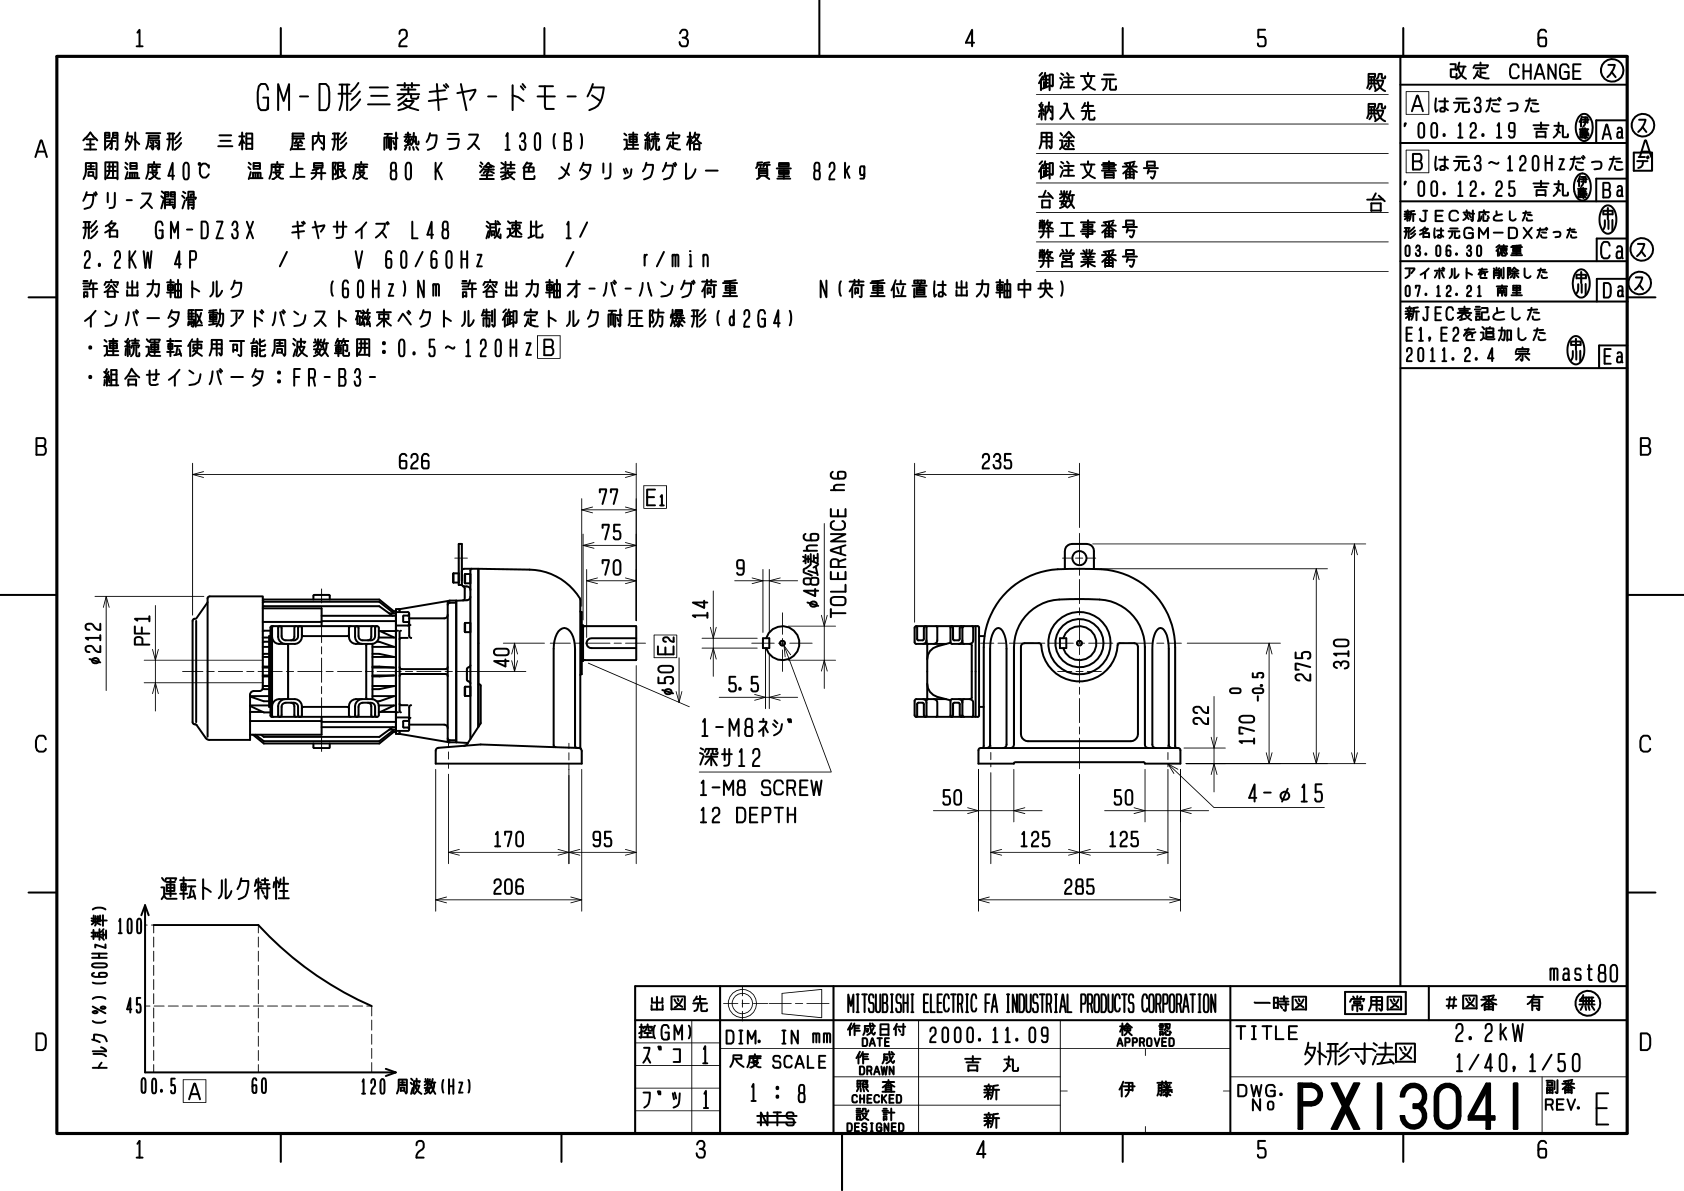GM_D_制御屋内_三相_脚: (63, 421, 1379, 973)
